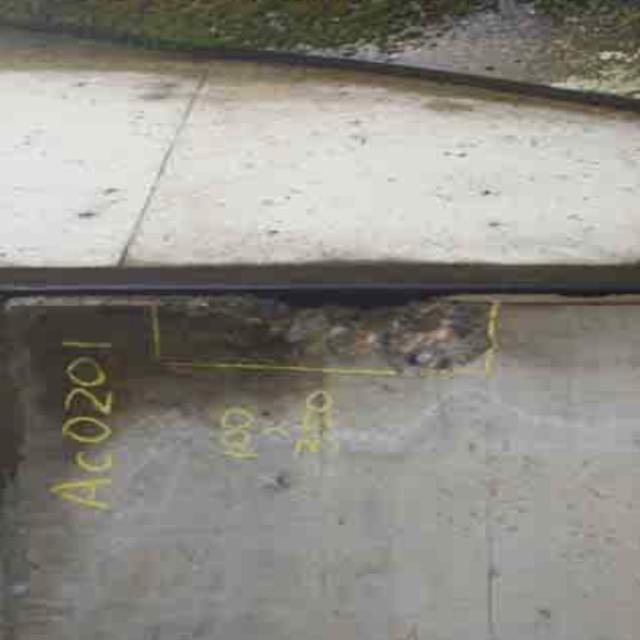spalling: (162, 289, 507, 377)
